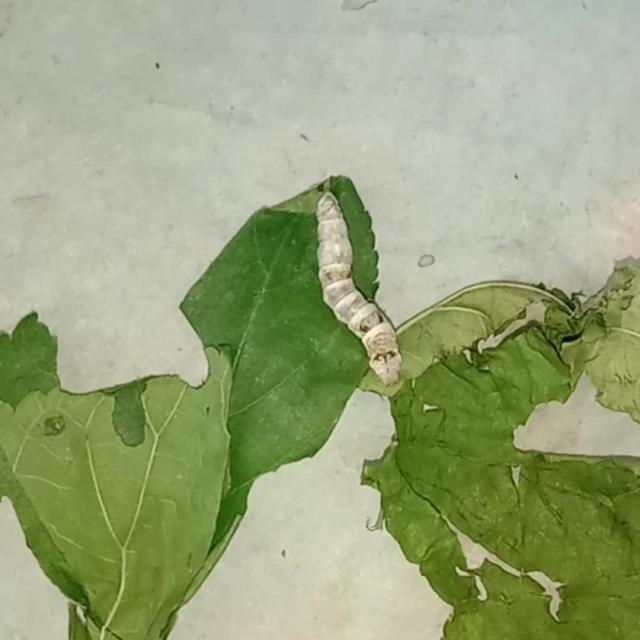Grasserie: (300, 180, 416, 387)
